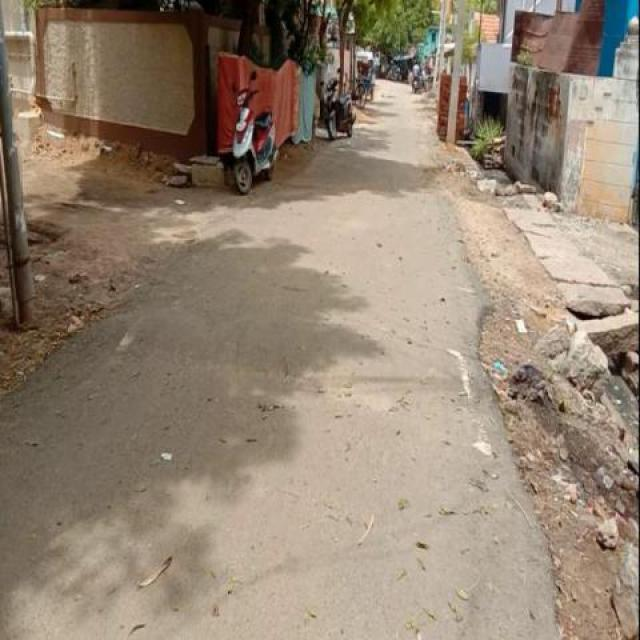Pothole: (585, 322, 640, 407), (559, 292, 631, 324), (28, 220, 61, 250), (618, 276, 640, 306)
Unmarked Bump: (83, 311, 490, 394)
